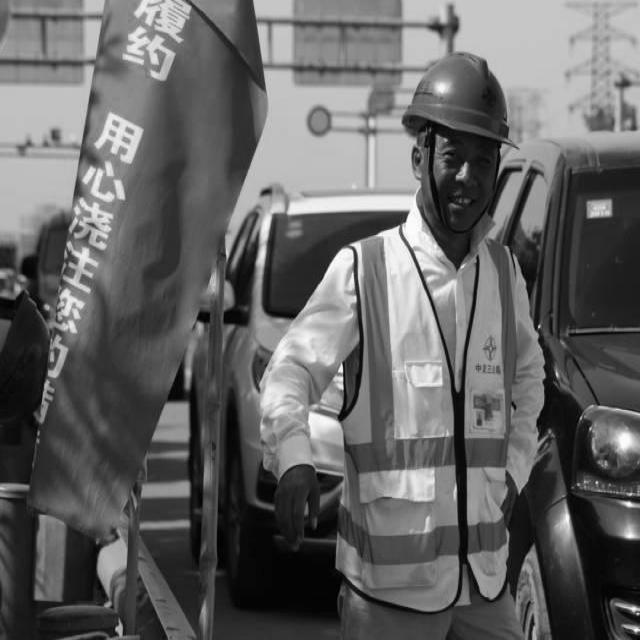face_nomask: (417, 126, 495, 230)
hand_noglove: (268, 471, 325, 551)
head_helmet: (400, 50, 517, 147)
person: (311, 48, 551, 632)
vest: (346, 226, 521, 588)
